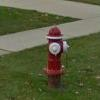Hydrant: (39, 18, 74, 94)
